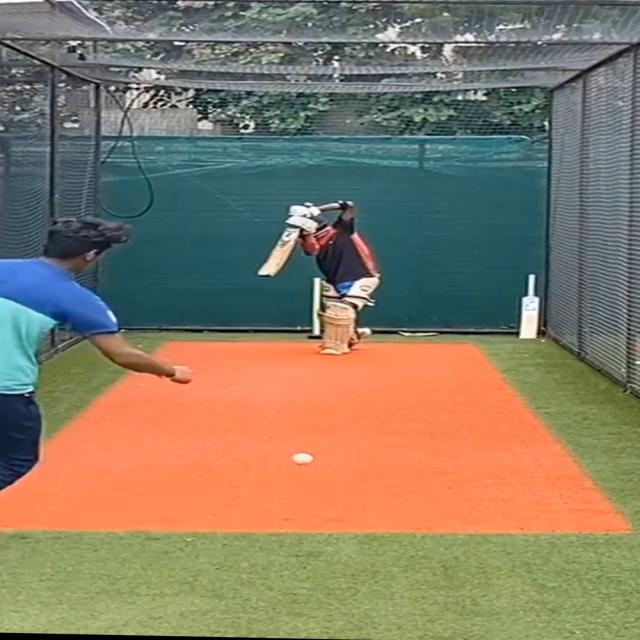ball: (284, 451, 320, 470)
